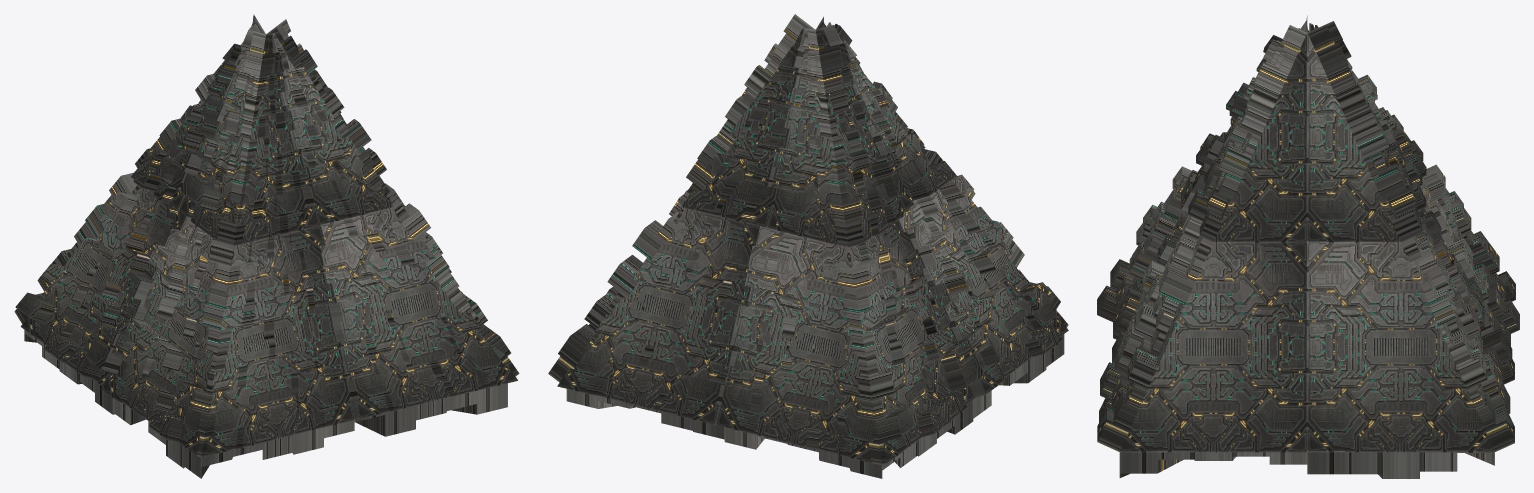
3 renders of one model, left to right at view 1: azimuth 30°, elevation 25°; view 2: azimuth 150°, elevation 25°; view 3: azimuth 270°, elevation 25°, orthographic. The views are drawn at different scales.
Visible parts, largest first — view 1: Pyramid001; view 2: Pyramid001; view 3: Pyramid001.
Boxes of the visible parts, bbox=[...] form: Pyramid001: bbox=[14, 14, 519, 478]; Pyramid001: bbox=[548, 14, 1068, 478]; Pyramid001: bbox=[1097, 15, 1519, 478].
Bounding box in the file's own units: 1.43 × 1.41 × 1.43.
Materials: 1 (1 with a texture image).
